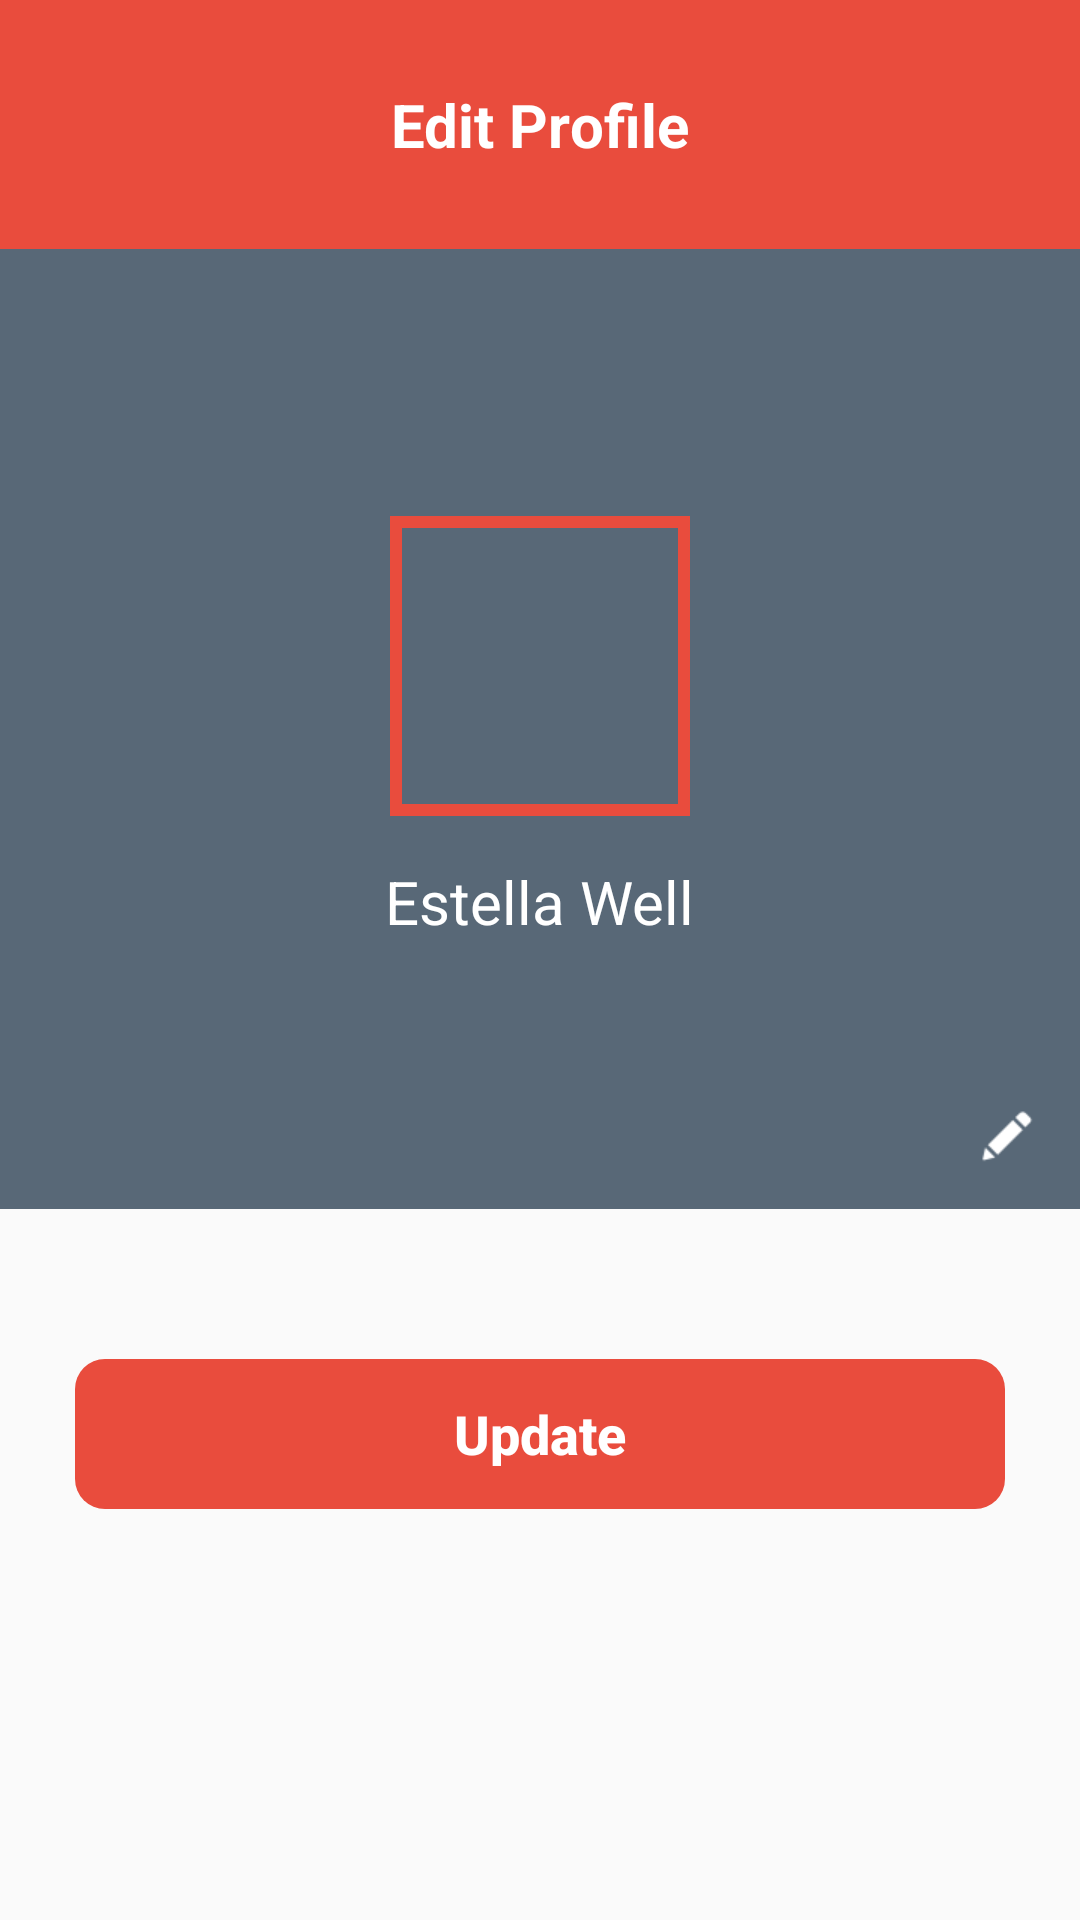

Screen size 1080 x 1920. Icon name, then its center in pixels as (x,y):
edit profile: (1007,1136)
